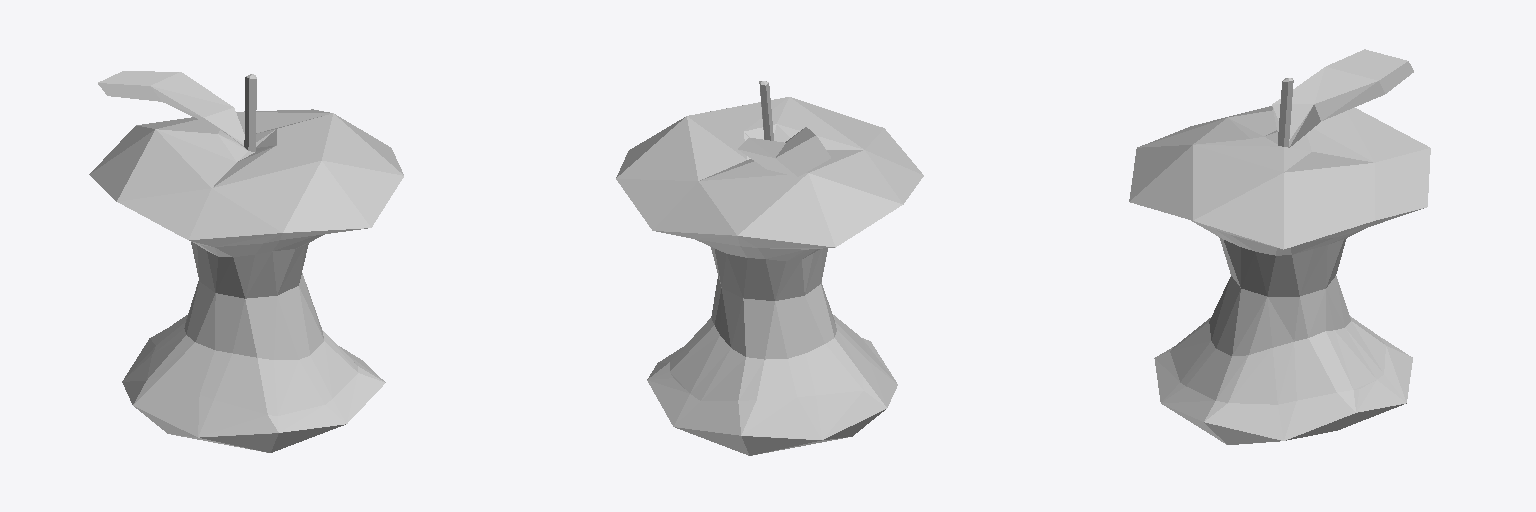
File: Apple.obj
The picture shows the model from 3 angles: view 1: azimuth 30°, elevation 25°; view 2: azimuth 150°, elevation 25°; view 3: azimuth 270°, elevation 25°; orthographic projection.
Parts seen in each view (by area): view 1: Icosphere; view 2: Icosphere; view 3: Icosphere.
Part boxes in pixels (bbox=[...]): Icosphere: bbox=[89, 71, 403, 452]; Icosphere: bbox=[616, 81, 923, 455]; Icosphere: bbox=[1129, 49, 1430, 444].
Size of the model in its own units: 599 by 744 by 569.